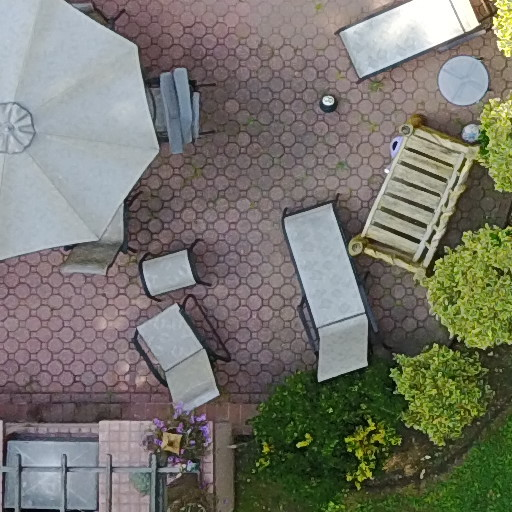container: (398, 121, 411, 140)
watering can: (382, 132, 414, 183)
